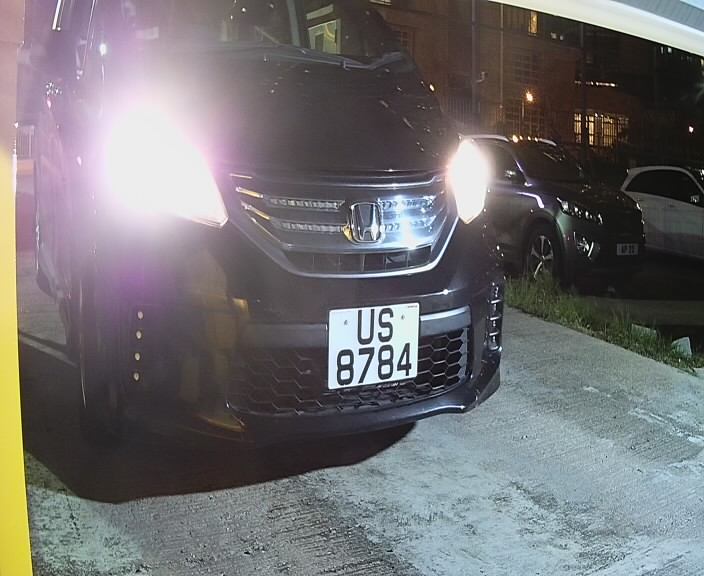Car: (27, 1, 540, 477)
License Plate: (321, 296, 429, 400)
